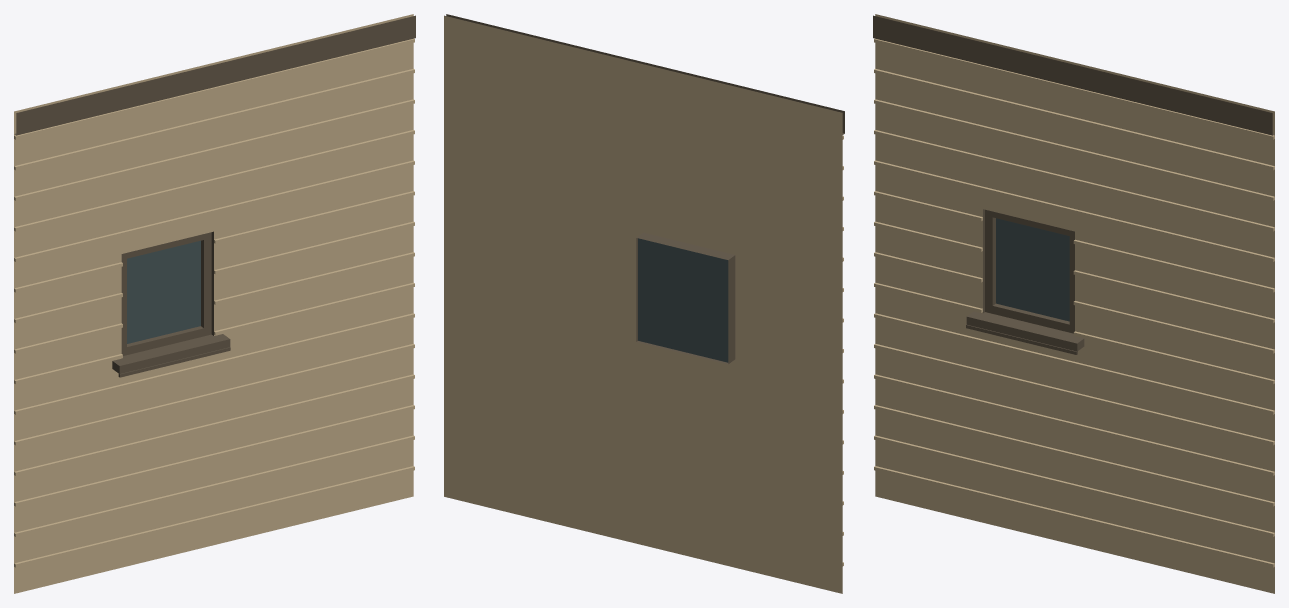
Rendered from top-w2_close.fbx.
The picture shows the model from 3 angles, left to right: view 1: azimuth 30°, elevation 25°; view 2: azimuth 150°, elevation 25°; view 3: azimuth 330°, elevation 25°; orthographic projection.
Parts seen in each view (by area): view 1: a2015/0/top-w2_close; view 2: a2015/0/top-w2_close; view 3: a2015/0/top-w2_close.
Boxes of the visible parts, x1=… form: a2015/0/top-w2_close: x1=14, y1=14, x2=415, y2=593; a2015/0/top-w2_close: x1=444, y1=14, x2=844, y2=593; a2015/0/top-w2_close: x1=873, y1=14, x2=1274, y2=593.
Size of the model in its own units: 2.6 by 3 by 0.165.
